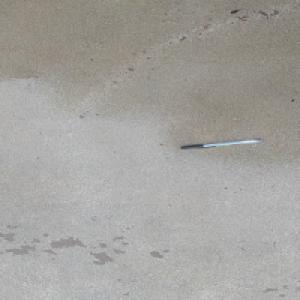Pen: (179, 138, 263, 149)
